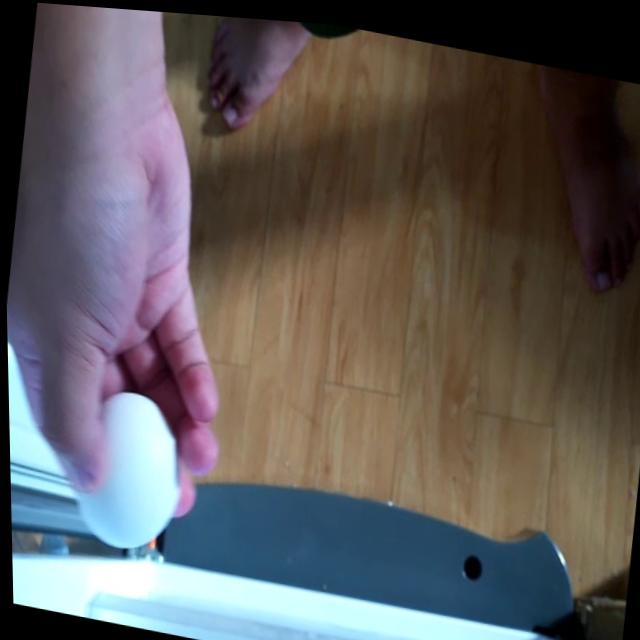egg: (59, 380, 187, 557)
